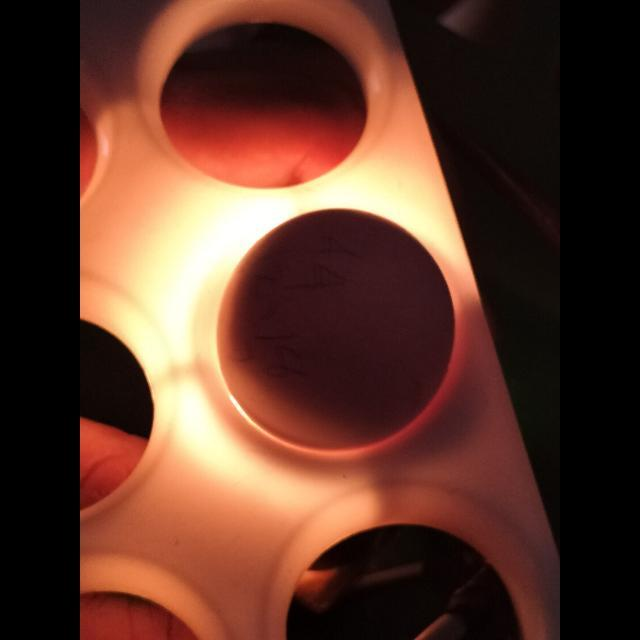Fertile: (206, 206, 464, 440)
